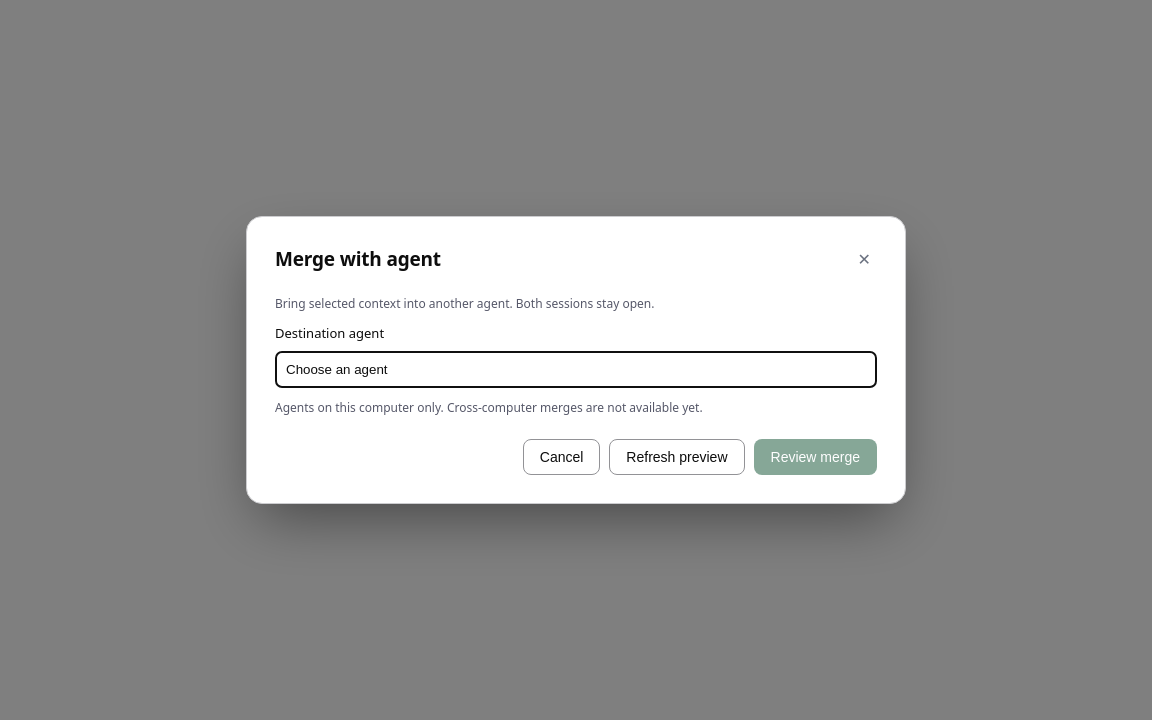
Test case: canceling the existing checkpoint selector restores the merge draft without work
Select "Destination · Project · busy" in the dropdown labelled "Destination agent" at (576, 369), box left=275, top=351, right=877, bottom=388
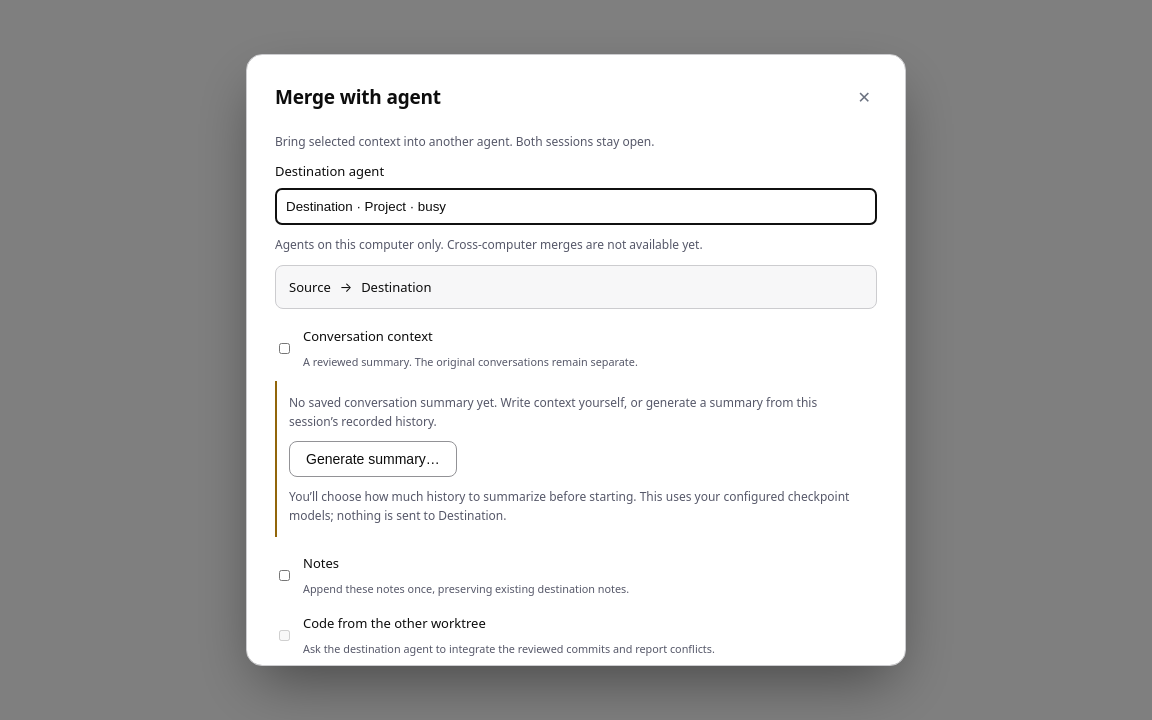
Check: the text "No saved conversation summary" is shown, box left=289, top=394, right=817, bottom=430
Click the checkbox labelled "Conversation context" at (284, 348), box left=279, top=342, right=290, bottom=355
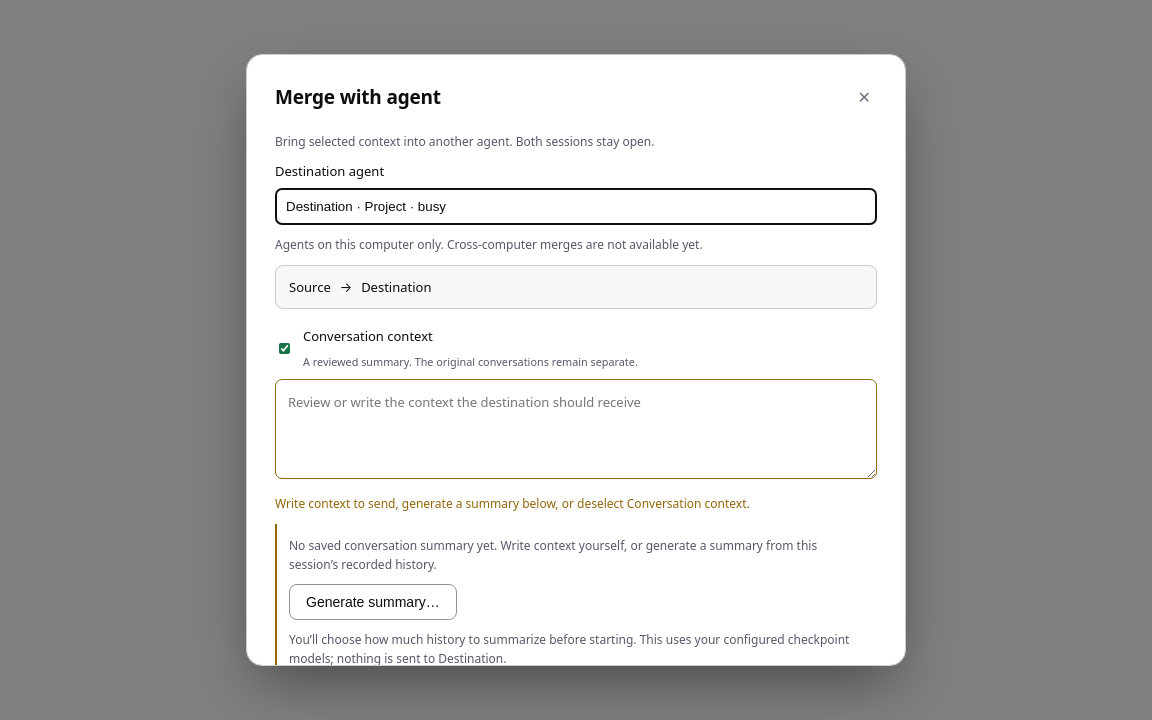
Type "Draft" into the text box named "Context to send" at (576, 429), box left=275, top=379, right=877, bottom=479
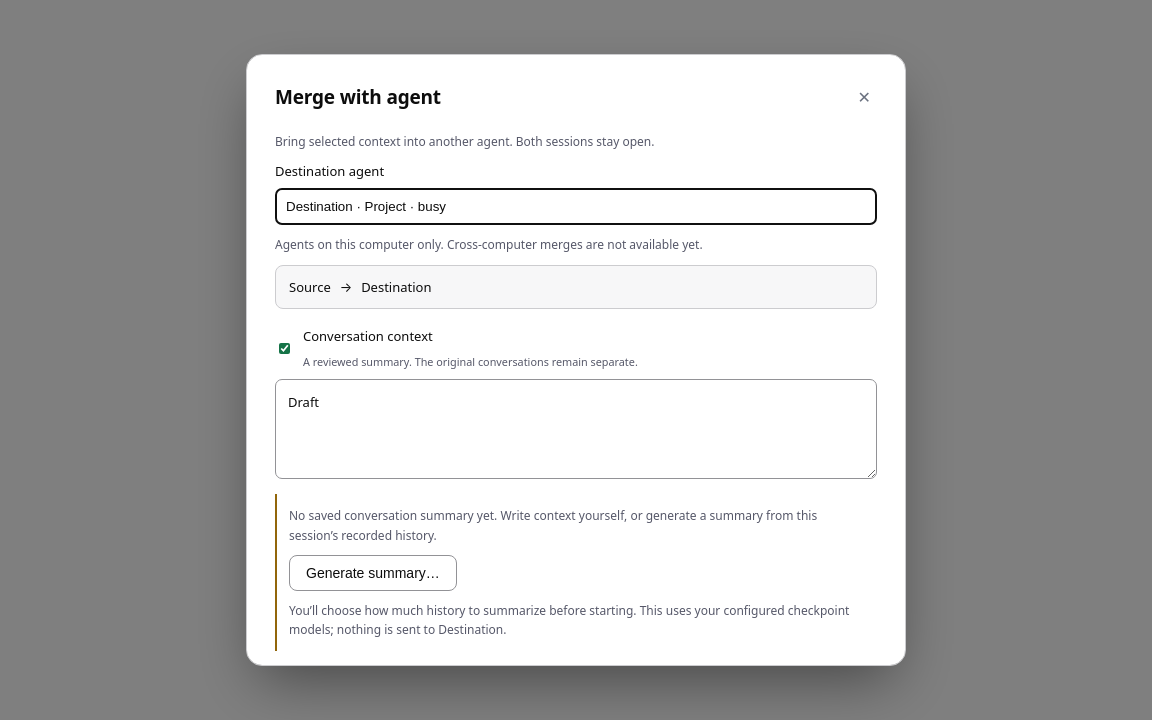
Click the button "Generate summary…" at (373, 573), box left=289, top=555, right=457, bottom=591
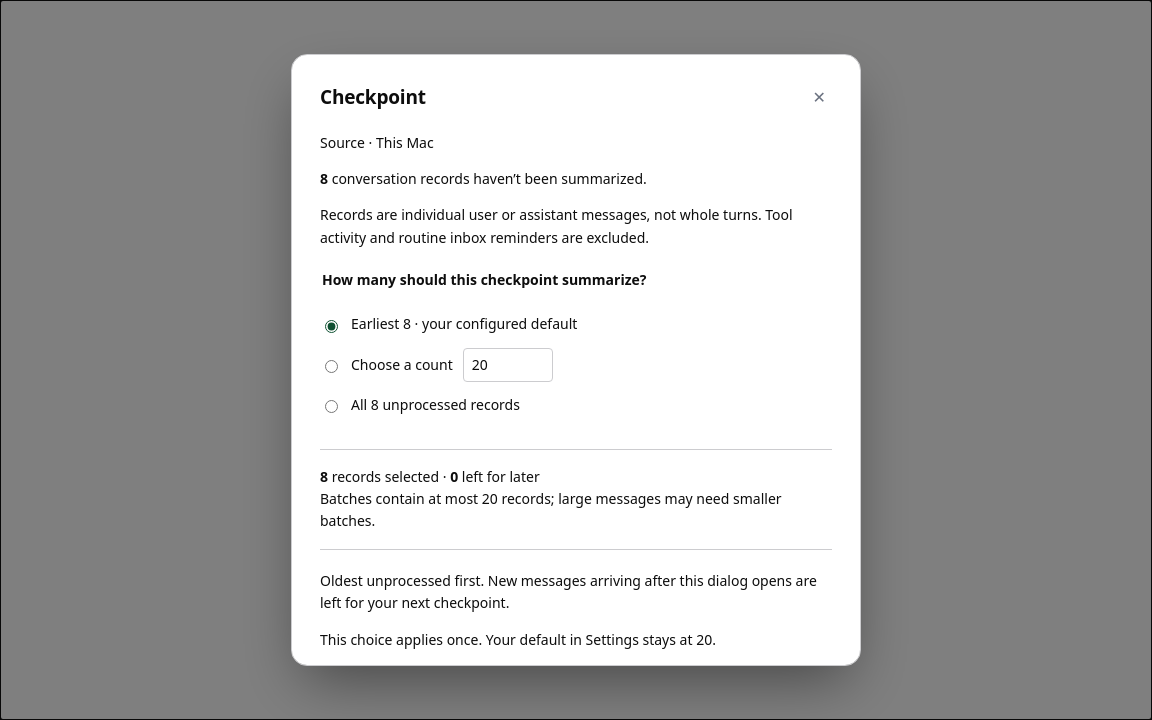
Check: the heading "Merge with agent" is gone
Press Escape in the dialog "Checkpoint"
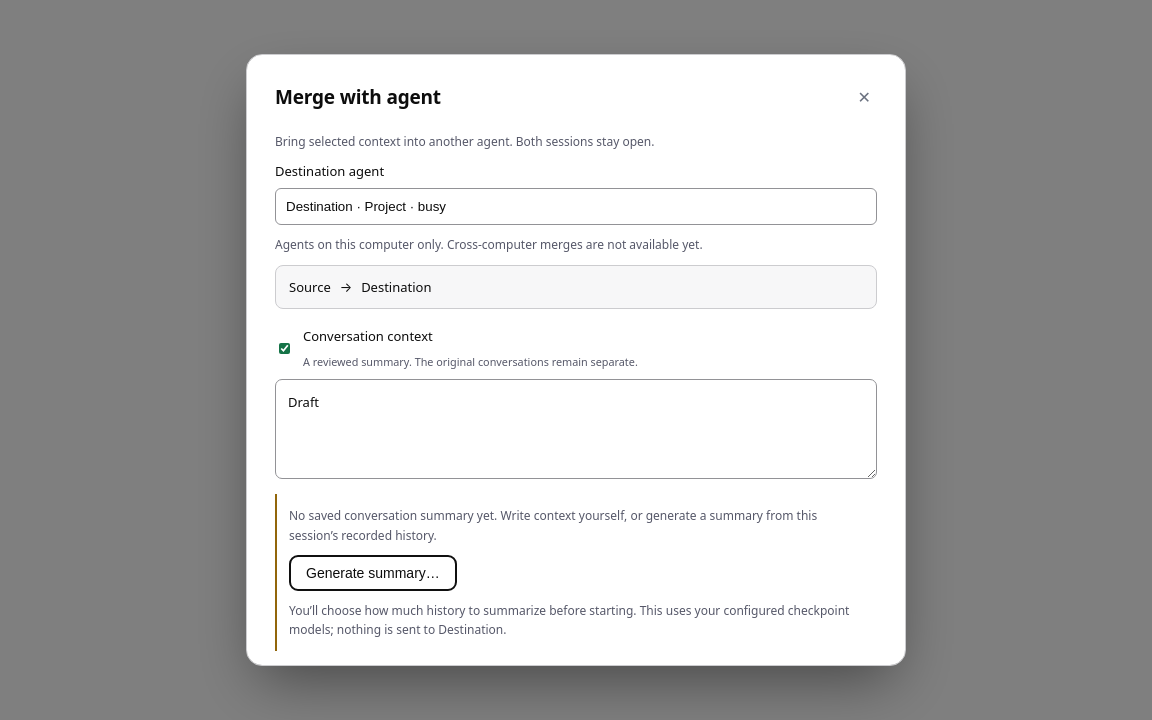
Check: the text box named "Context to send" holds "Draft", box left=275, top=379, right=877, bottom=479
